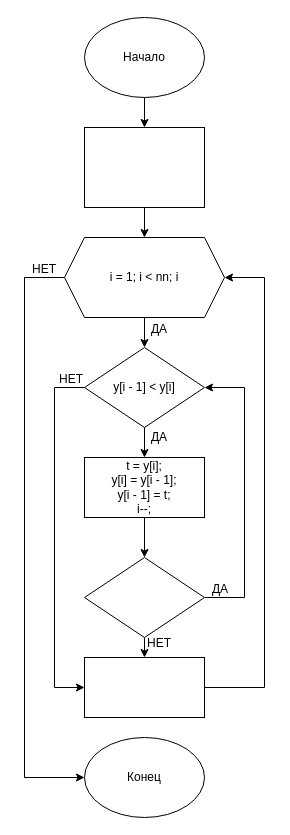
This 290x835 diagram has some shape labels left out. Here are the shapes that lost their labels. From the top down, the box of each, then its label:
(84, 126, 204, 208): int y[10], int i, j, t; int nn = sizeof(y) / sizeof(int); j = 2;
(84, 556, 204, 638): (i > 0)
(84, 656, 204, 718): i = j++;
